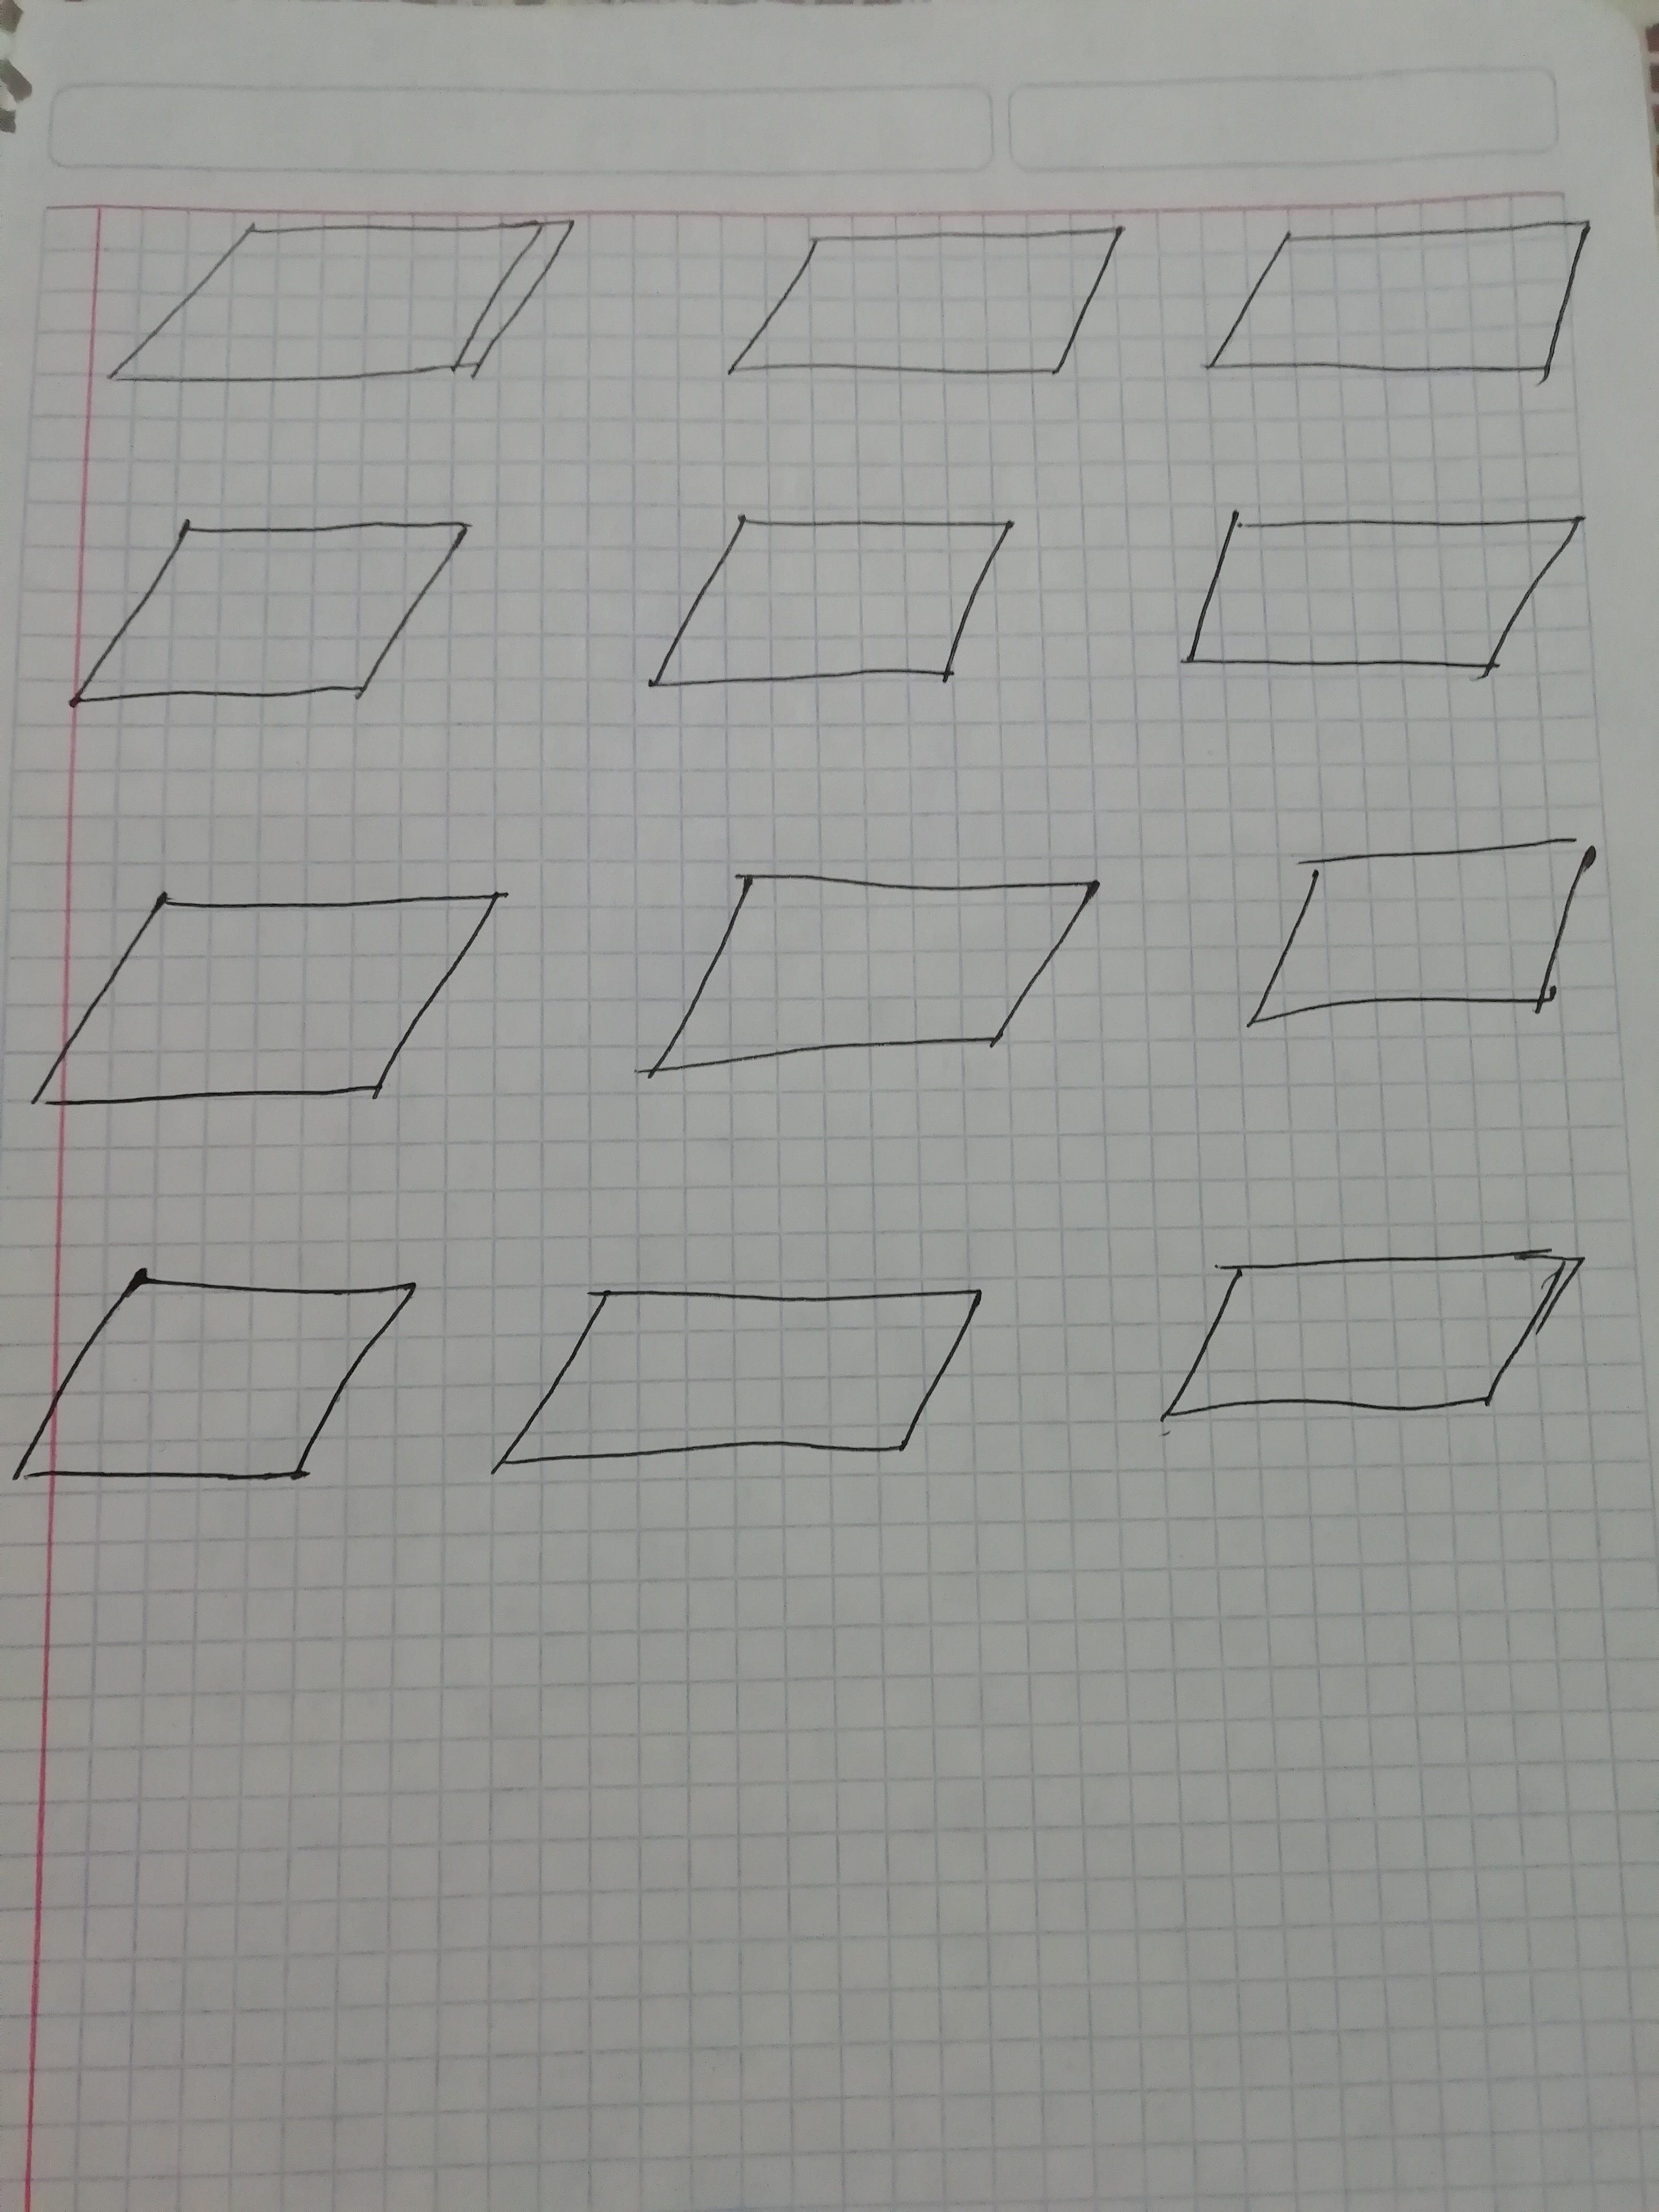scan: (455, 1251, 1023, 1521), (619, 829, 1133, 1127), (2, 853, 533, 1137), (0, 1244, 437, 1531), (91, 188, 594, 435), (1133, 1226, 1607, 1486), (1197, 808, 1633, 1082), (51, 493, 509, 751), (678, 185, 1150, 415), (615, 482, 1033, 733), (1133, 493, 1614, 709), (1175, 181, 1614, 411)
